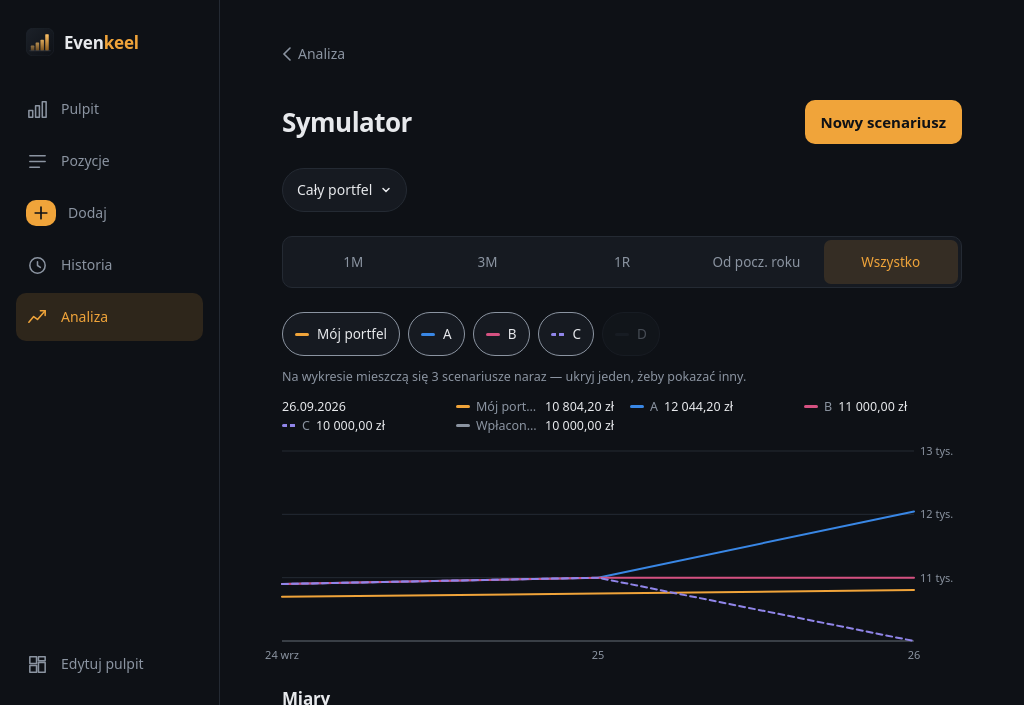
Symulator chart lines › keeps the portfolio on the chart when every scenario is hidden
Check: the picture named "Porównanie wartości: Mój portfel, A, B, C" is shown, box [282,442,962,662]
What coordinates should you click on to do the following:
click the button "A"
I would click on:
 (436, 334)
Its box is [408,312,465,356].
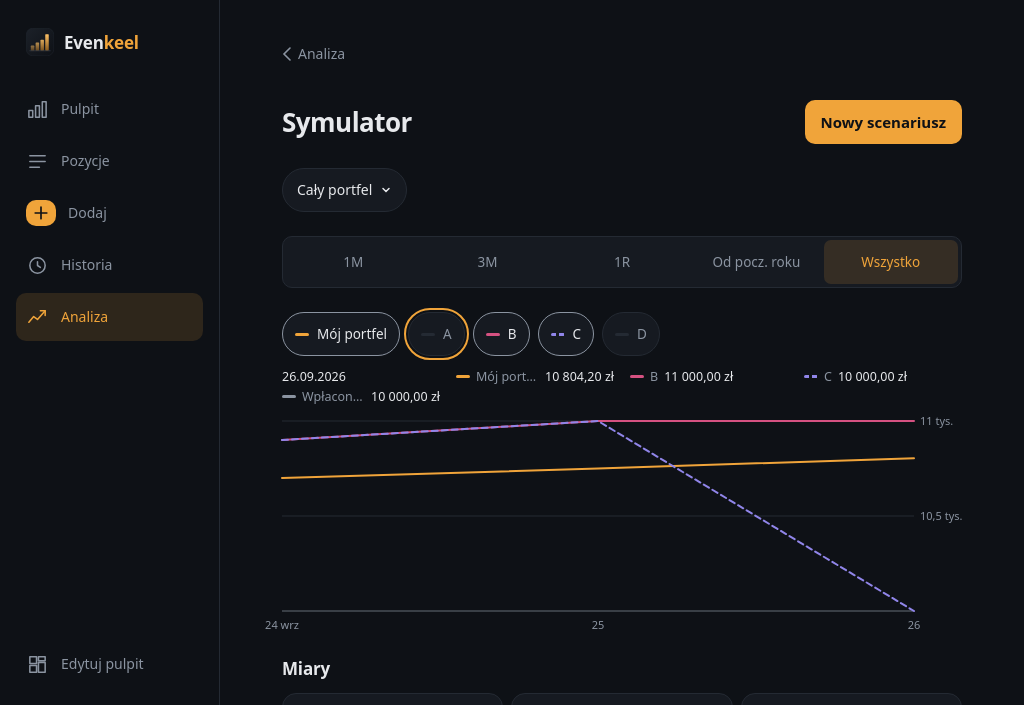
What coordinates should you click on to do the following:
click the button "B"
I would click on:
 (501, 334)
Its box is [473,312,530,356].
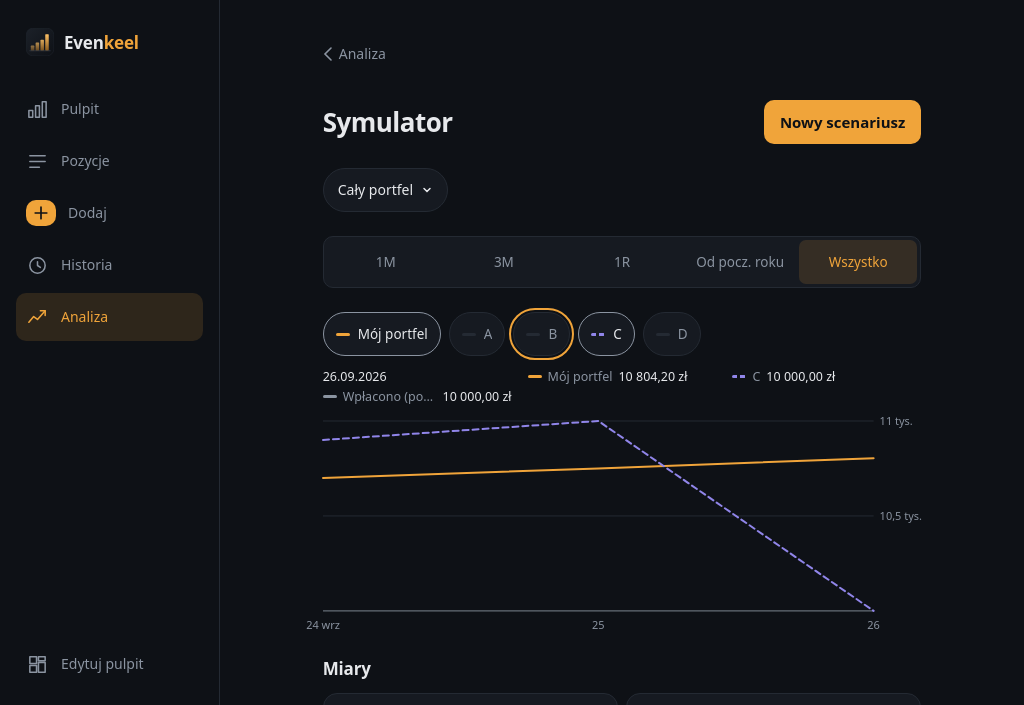
What coordinates should you click on to do the following:
click the button "C"
I would click on:
 (606, 334)
Its box is [578,312,635,356].
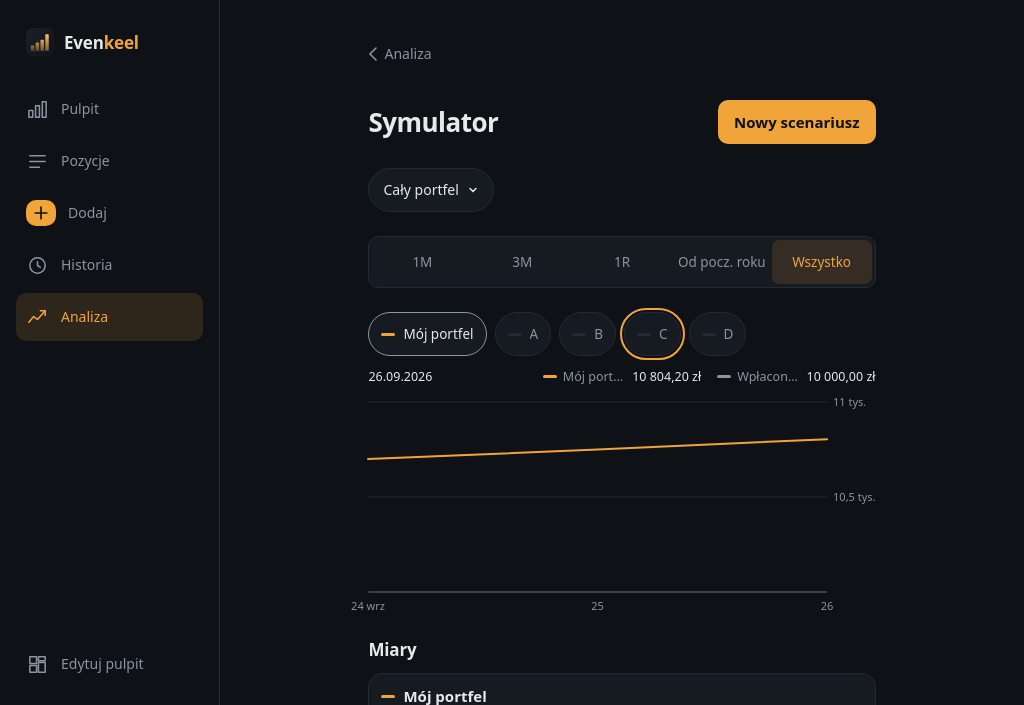
Check: the picture named "Porównanie wartości: Mój portfel" is shown, box [368,394,876,614]
What coordinates should you click on to do the following:
click the button "Mój portfel"
I would click on:
 (428, 334)
Its box is [368,312,487,356].
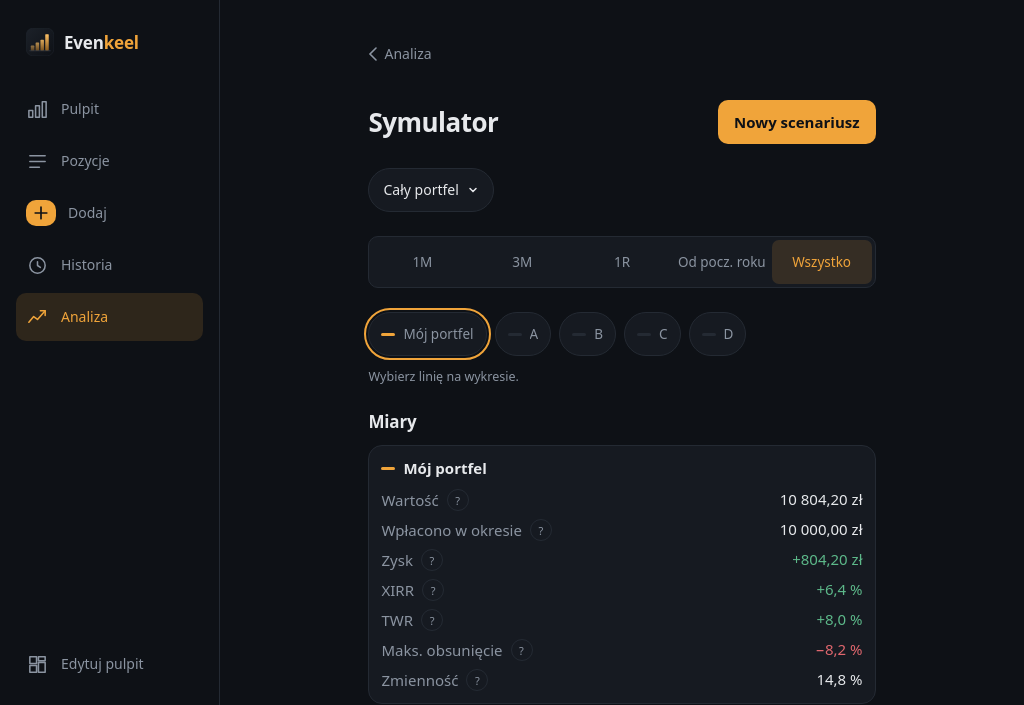
Check: the text "Wybierz linię na wykresie." is shown, box [368,368,519,385]
